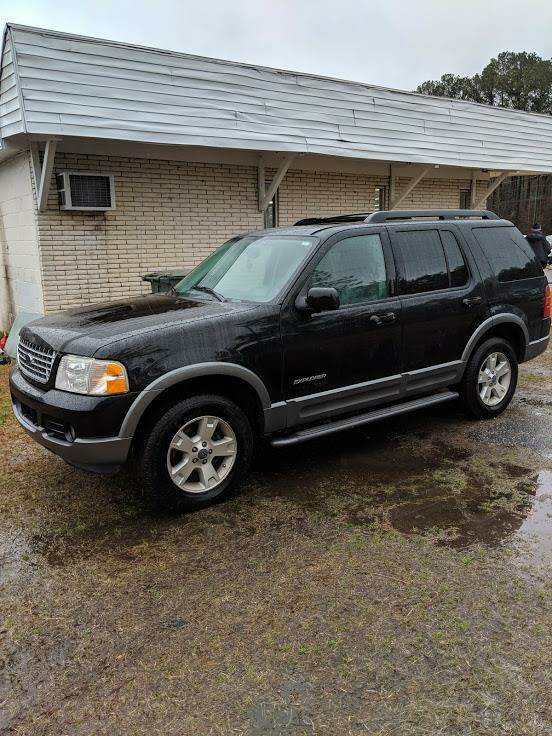Ford Explorer: (10, 210, 552, 513)
